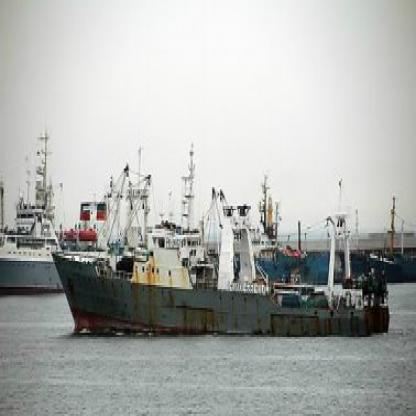fish-b: (47, 142, 398, 354)
